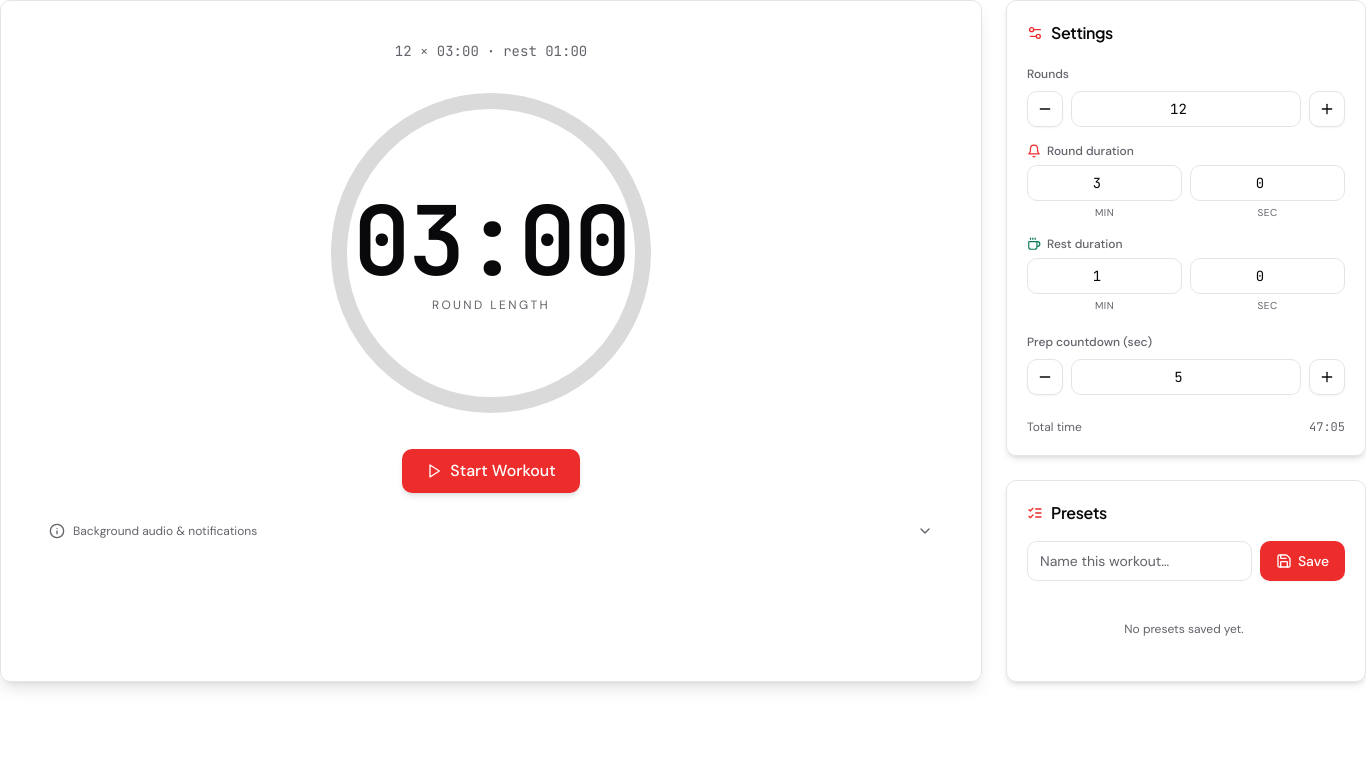
Test: the control set follows the phase › offers Pause and Stop — and no dead Start — while running
The width and height of the screenshot is (1366, 757).
Click the button "Start Workout".
click(491, 471)  # box [402,449,580,493]
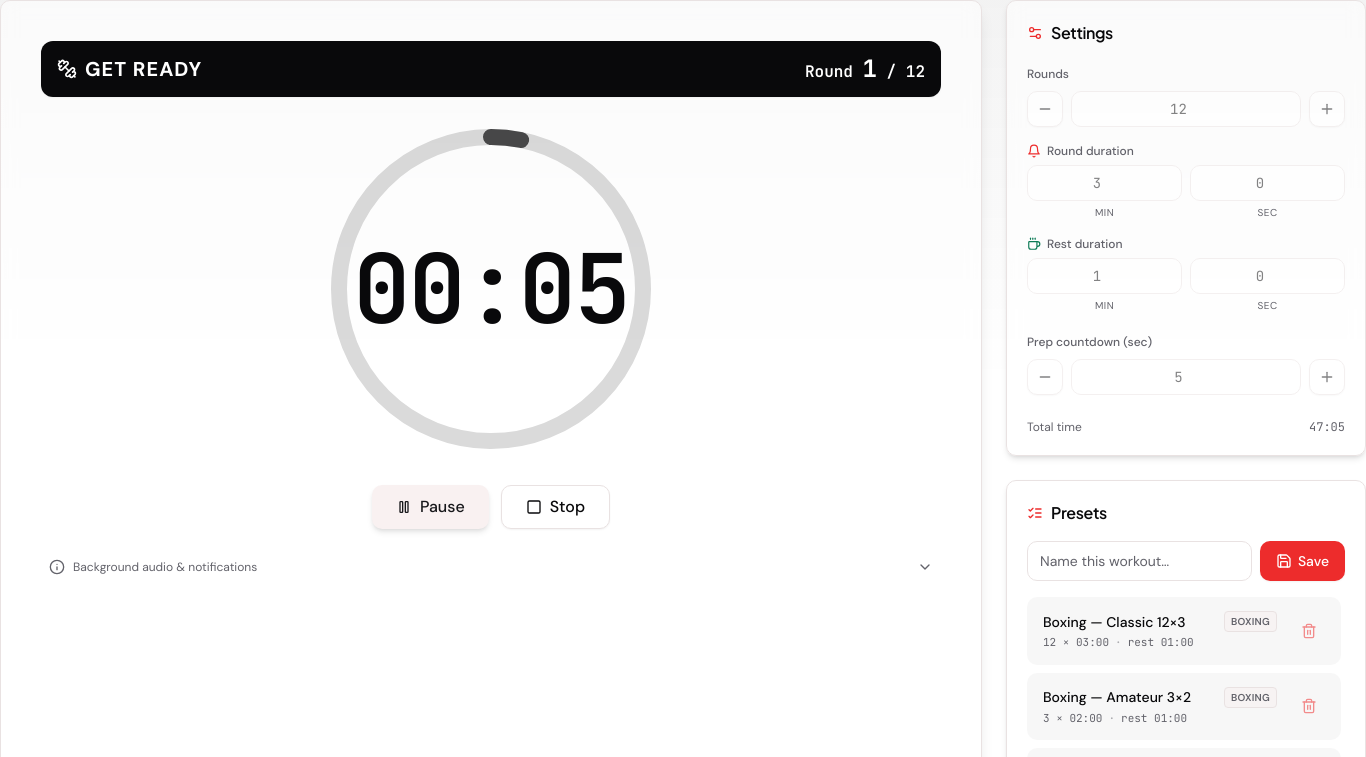
Check: the button "Pause" is enabled, box [372,485,489,529]
Check: the button "Stop" is enabled, box [501,485,610,529]
Check: the button "Start Workout" is gone
